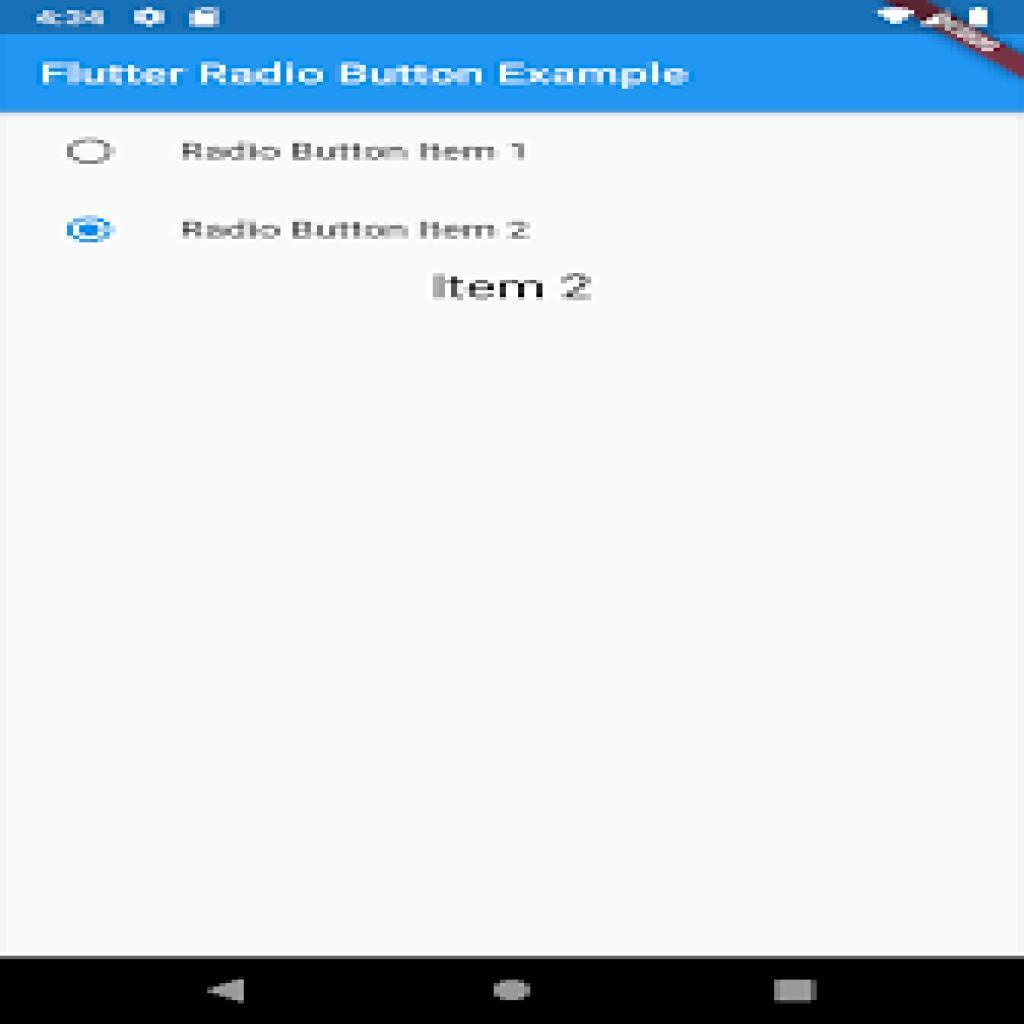label: (37, 64, 693, 91), (180, 214, 541, 250), (174, 135, 539, 170), (428, 270, 597, 305)
radio: (61, 210, 120, 250), (60, 135, 122, 170)
